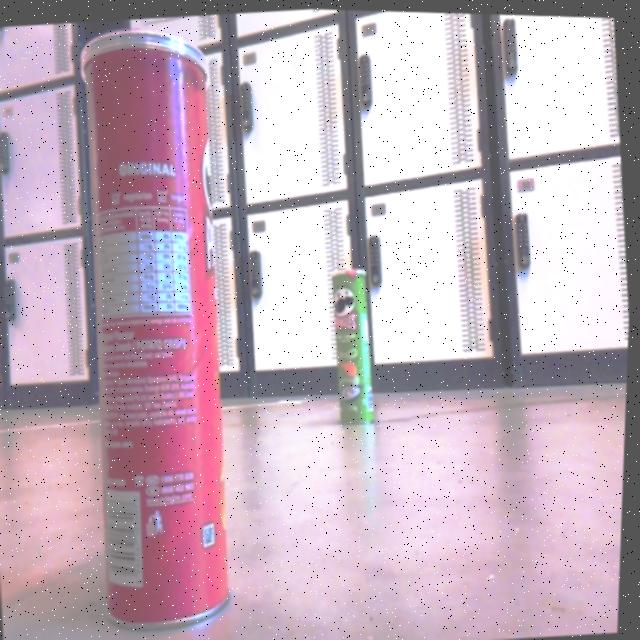greenpringles: (324, 257, 394, 429)
redpringles: (27, 15, 306, 640)
